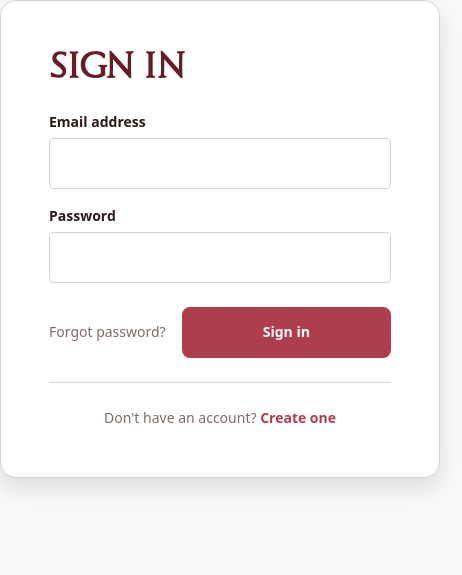
Test: LoginPage — form submission › shows an API error message when login fails
Type "user@example.com" into the field labelled "Email address" at point(220, 164), box x1=49 y1=138 x2=391 y2=189
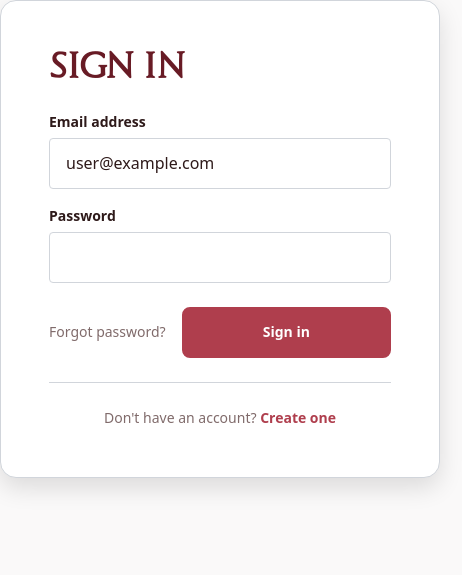
Type "wrongpass" into the password field labelled "Password" at point(220, 258), box x1=49 y1=232 x2=391 y2=283
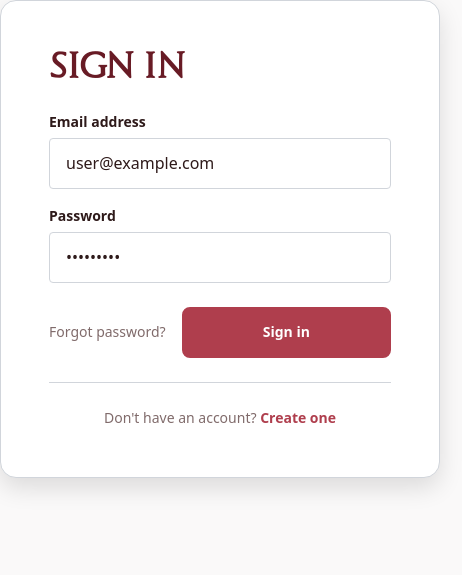
Click the button "Sign in" at point(286, 333), box x1=182 y1=307 x2=391 y2=358
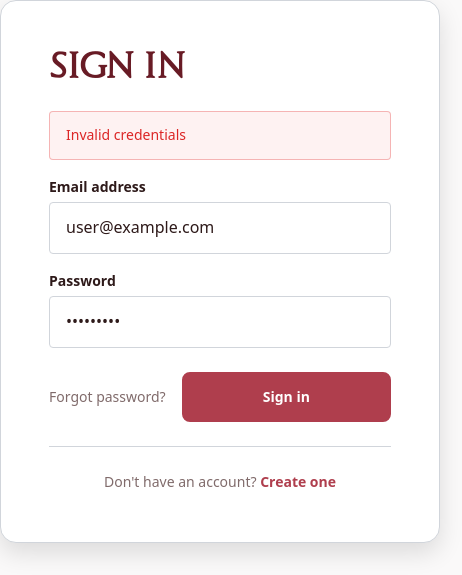
Now the message reads "Invalid credentials", box x1=66 y1=125 x2=186 y2=144
